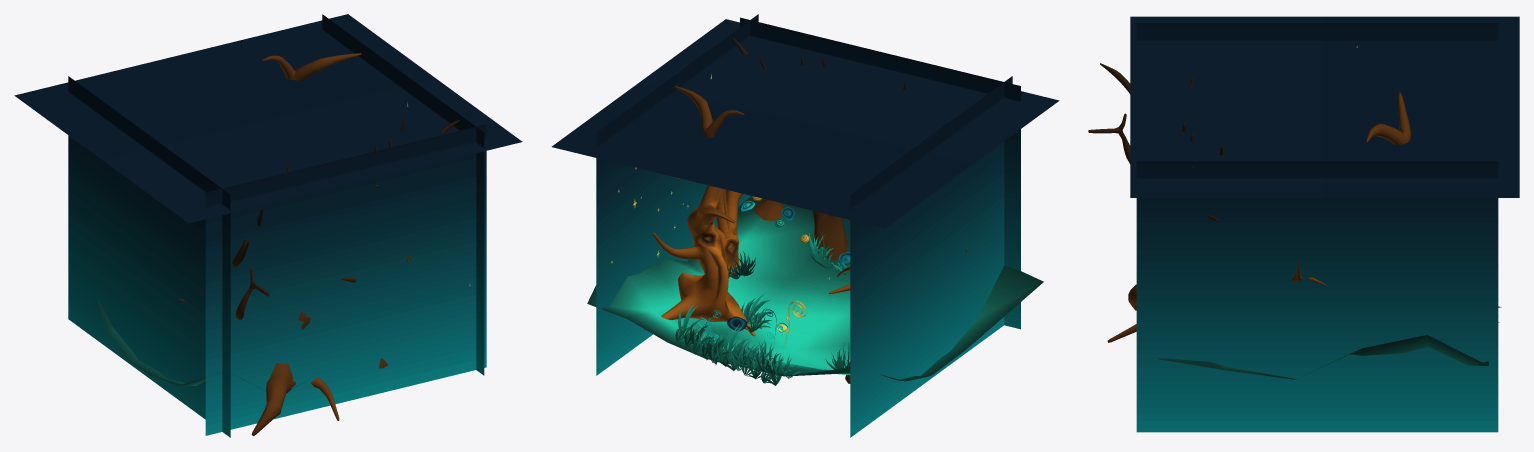
File: M_LL_WoodCard_var_00_a.fbx
The picture shows the model from 3 angles, left to right: view 1: azimuth 30°, elevation 25°; view 2: azimuth 150°, elevation 25°; view 3: azimuth 270°, elevation 25°; orthographic projection. The views are drawn at different scales.
Visible parts, largest first — view 1: M_LL_BoxMesh_var_00_a, M_LL_TreesMesh_var_00_a; view 2: M_LL_BoxMesh_var_00_a, M_LL_TreesMesh_var_00_a, M_LL_GrassMesh_var_00_a, M_LL_MushroomMesh_var_00_a, M_LL_TourbillonMesh_var_00_a; view 3: M_LL_BoxMesh_var_00_a, M_LL_TreesMesh_var_00_a.
Part boxes in pixels (x1=…): M_LL_BoxMesh_var_00_a: x1=14, y1=14, x2=522, y2=437; M_LL_TreesMesh_var_00_a: x1=178, y1=53, x2=459, y2=435; M_LL_BoxMesh_var_00_a: x1=551, y1=14, x2=1059, y2=437; M_LL_TreesMesh_var_00_a: x1=643, y1=38, x2=967, y2=383; M_LL_GrassMesh_var_00_a: x1=675, y1=233, x2=850, y2=385; M_LL_MushroomMesh_var_00_a: x1=727, y1=196, x2=850, y2=368; M_LL_TourbillonMesh_var_00_a: x1=697, y1=300, x2=806, y2=348; M_LL_BoxMesh_var_00_a: x1=1130, y1=16, x2=1519, y2=432; M_LL_TreesMesh_var_00_a: x1=1088, y1=63, x2=1410, y2=342.
Size of the model in its own units: 942 by 715 by 947.
